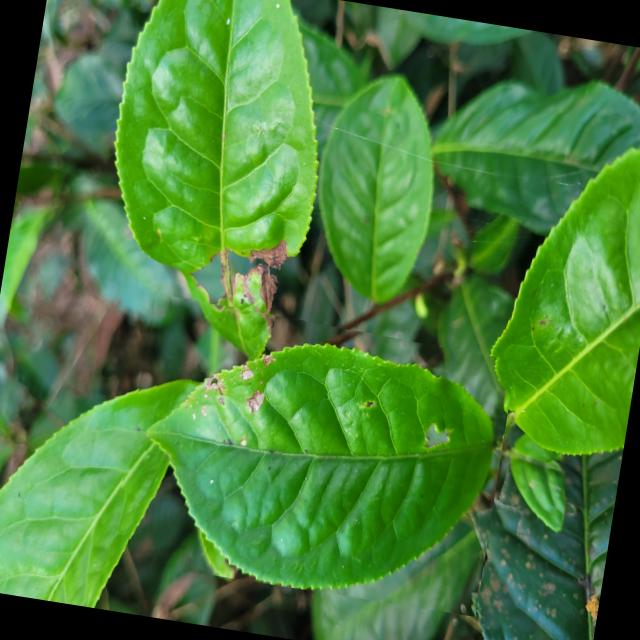Category D(7+ days, Not for Tea): (108, 291, 518, 616)
